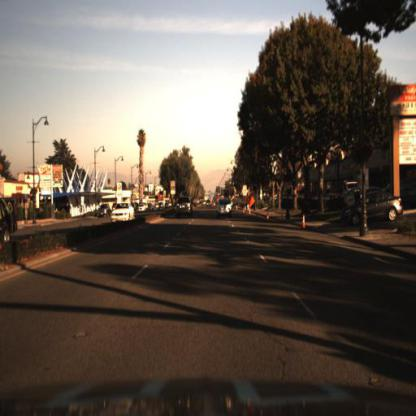car: (339, 188, 407, 222), (173, 194, 196, 222), (113, 201, 134, 224), (216, 198, 233, 219), (98, 204, 112, 220), (139, 198, 149, 218)
